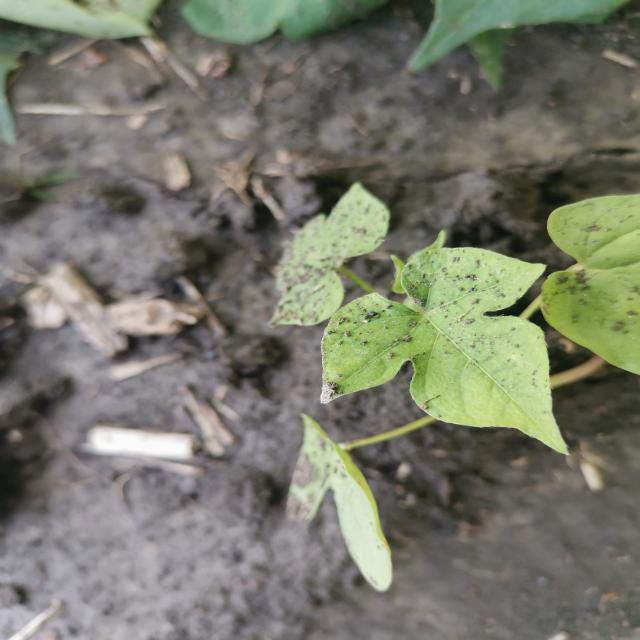MorningGlory: (262, 178, 638, 594)
